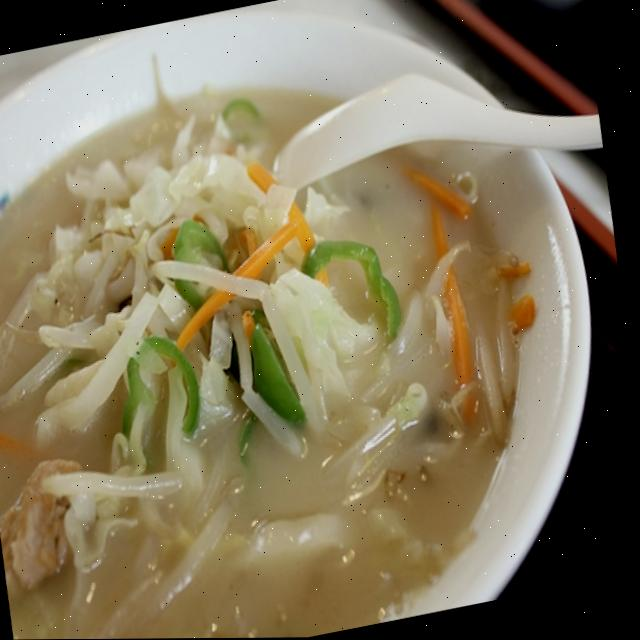面条主食: (0, 35, 636, 640)
